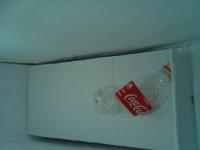bottle: (100, 60, 162, 128)
